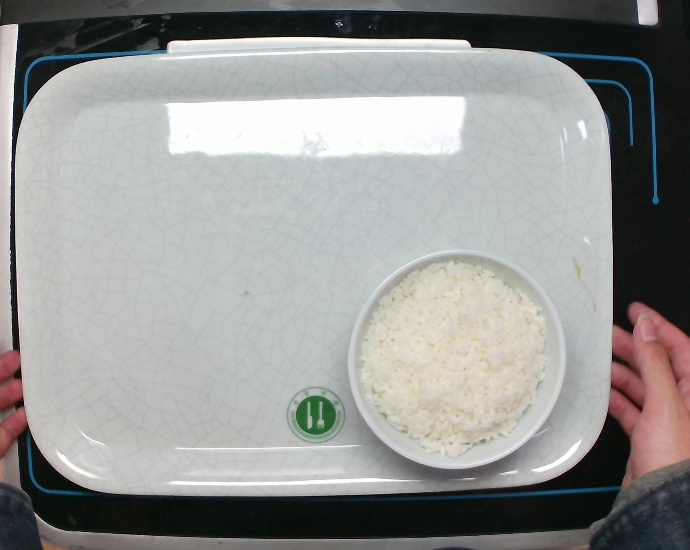JYsf-Fan_Wan: (346, 247, 568, 471)
